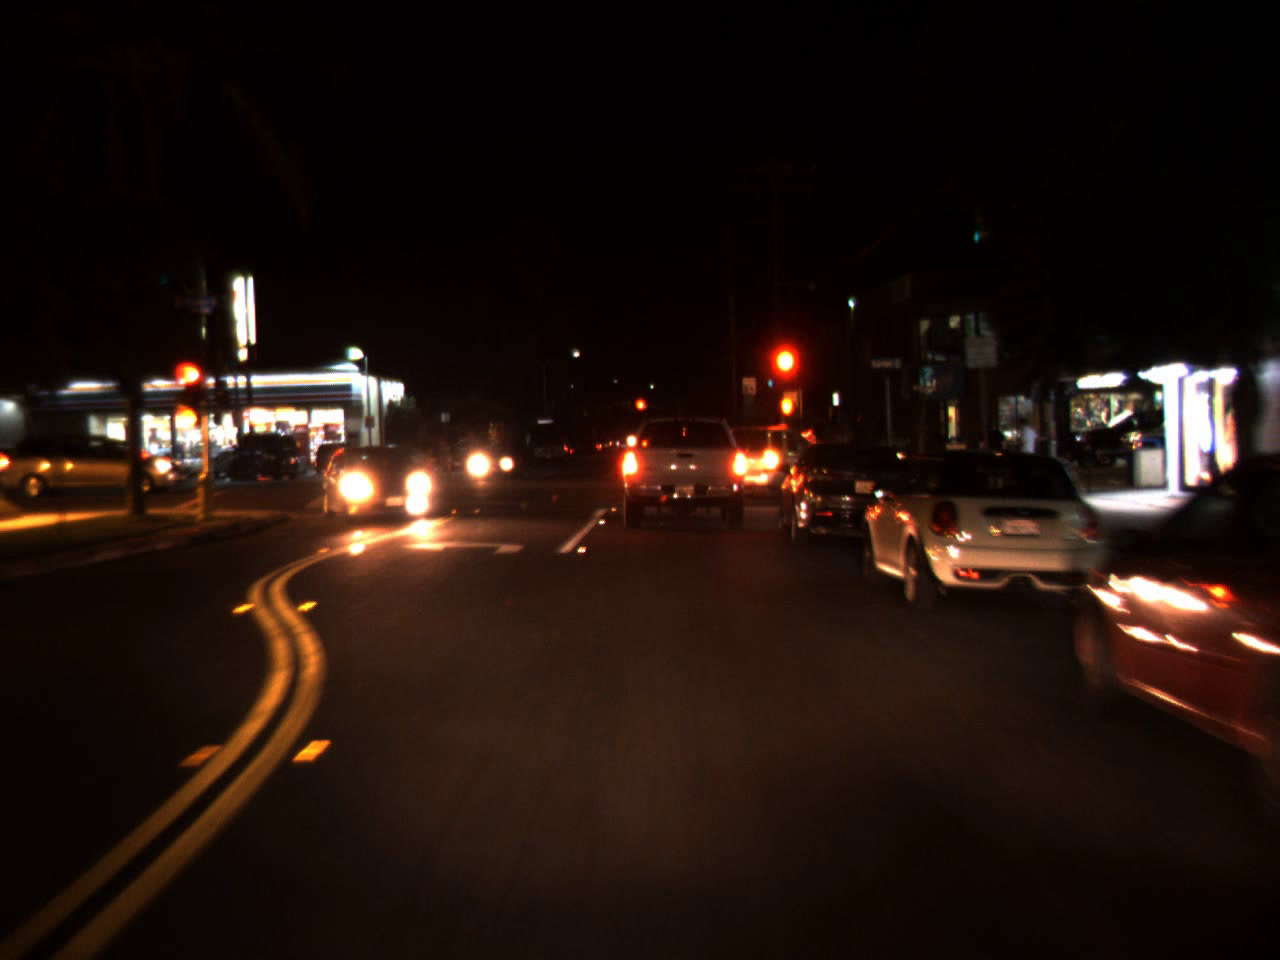stop: (169, 357, 208, 419), (767, 342, 795, 404), (633, 397, 648, 424)
